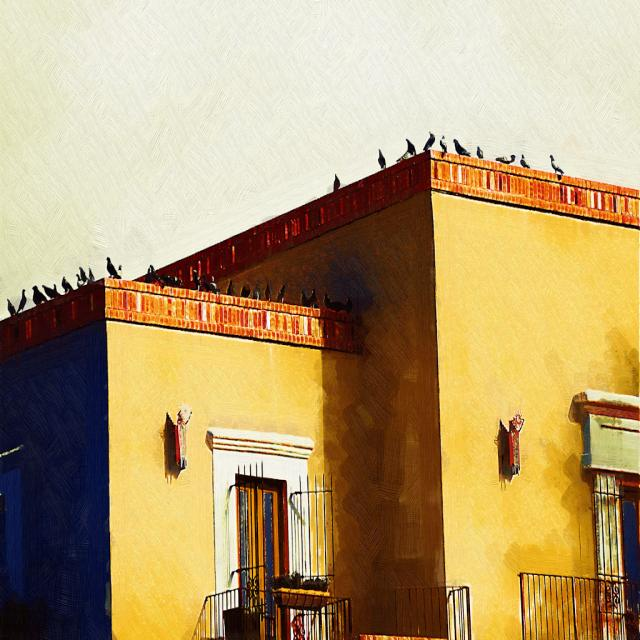bird: (549, 154, 565, 180), (105, 256, 122, 280), (300, 287, 318, 309), (453, 138, 472, 158), (31, 284, 46, 309), (404, 137, 417, 160), (422, 132, 436, 153), (495, 153, 516, 167), (376, 148, 387, 170), (519, 153, 531, 170), (439, 135, 448, 155), (333, 173, 341, 191), (476, 145, 484, 160)
